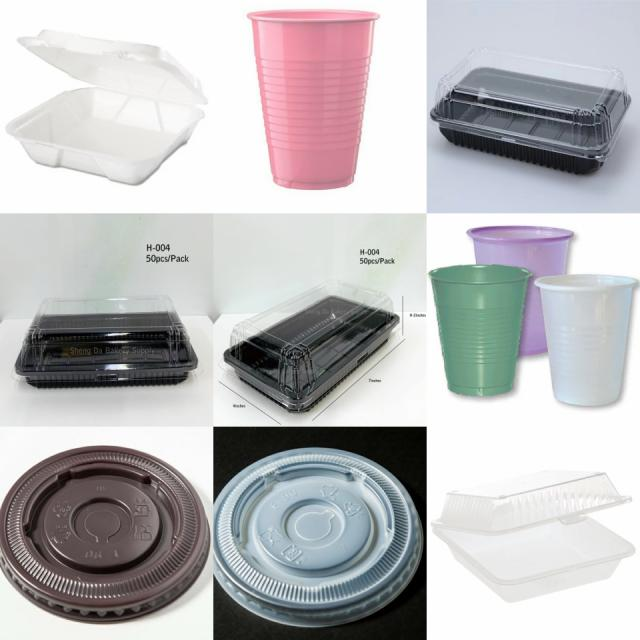Single-Use-Plastic: (214, 448, 422, 627), (0, 446, 210, 622), (6, 30, 208, 183), (431, 471, 635, 602), (430, 48, 631, 174), (248, 10, 379, 189), (224, 281, 399, 411), (15, 296, 198, 388), (466, 225, 574, 354), (535, 274, 639, 406), (429, 265, 531, 396)
